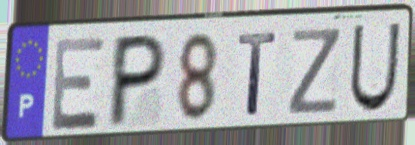8: (174, 30, 221, 125)
E: (50, 33, 109, 134)
P: (104, 31, 170, 132)
T: (235, 29, 280, 119)
U: (346, 19, 404, 115)
Z: (285, 25, 345, 118)
